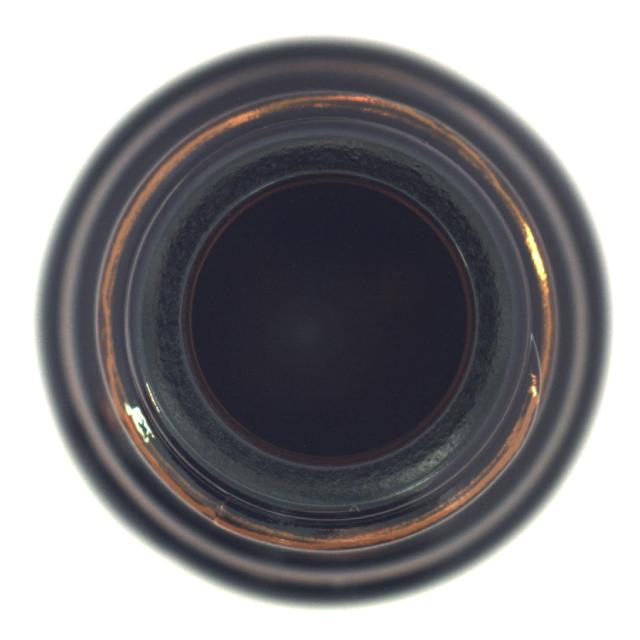bottle-good: (37, 35, 600, 603)
